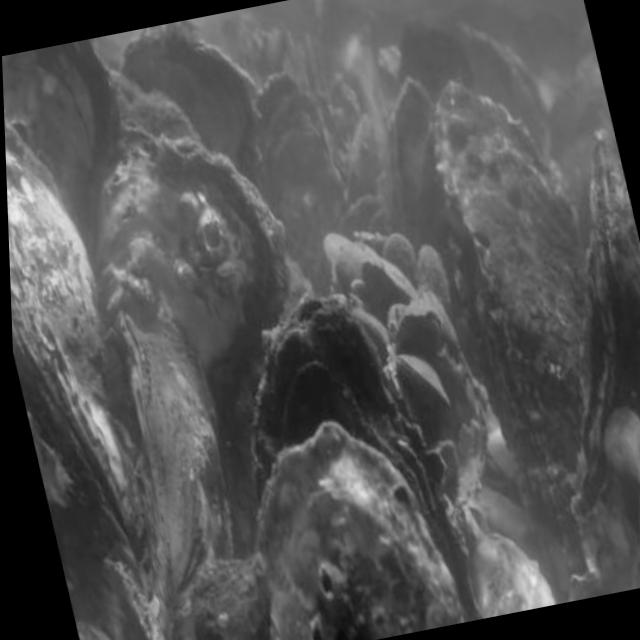Oyster-Closed: (430, 81, 584, 502), (4, 115, 145, 554), (255, 423, 467, 640), (2, 39, 120, 235), (256, 75, 353, 296), (387, 79, 447, 261), (396, 304, 445, 370)
Oyster-Indeterminate: (252, 296, 482, 619), (94, 138, 288, 401), (576, 124, 640, 567), (190, 557, 275, 640), (363, 261, 420, 330), (396, 355, 452, 410)
